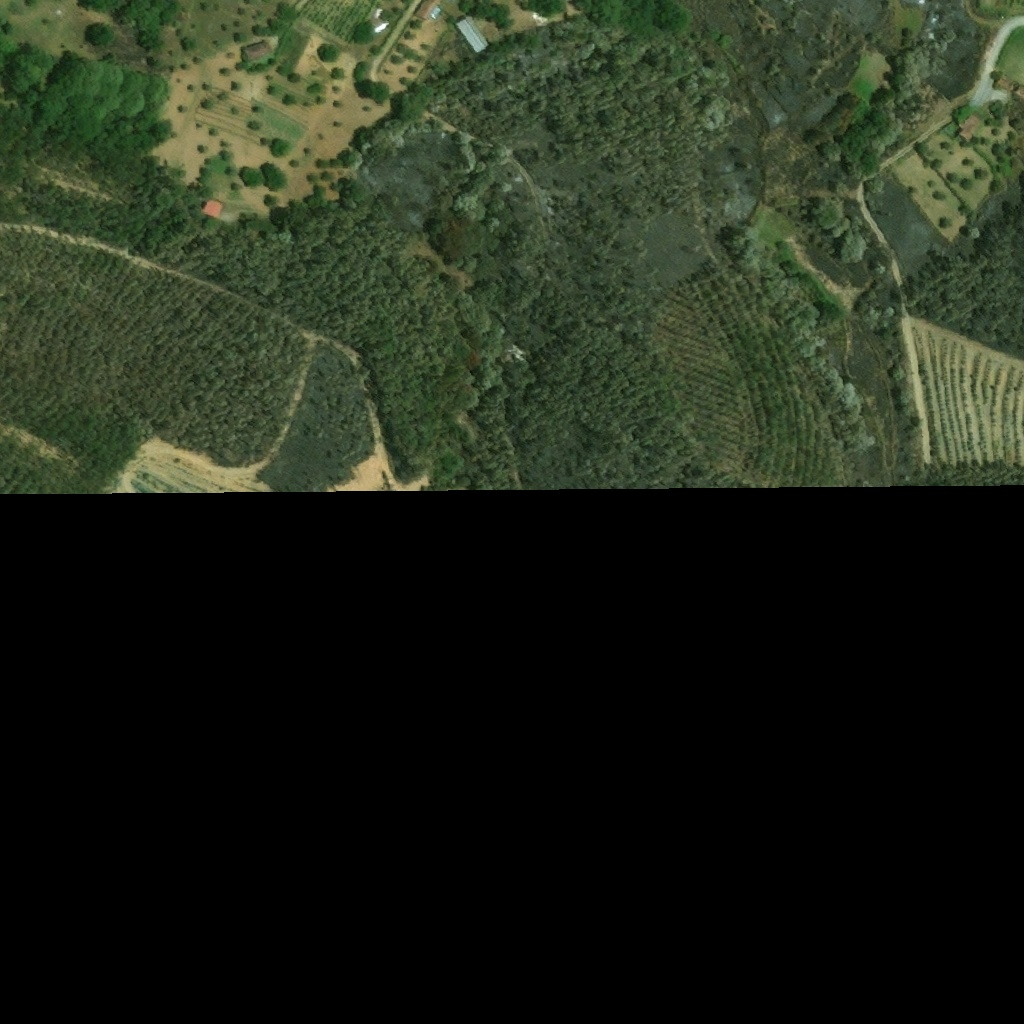0 no-damage: (456, 17, 489, 52), (957, 109, 984, 141), (243, 39, 272, 60), (414, 0, 439, 19), (201, 198, 223, 219), (430, 5, 442, 19)
4 un-classified: (506, 343, 535, 364)
